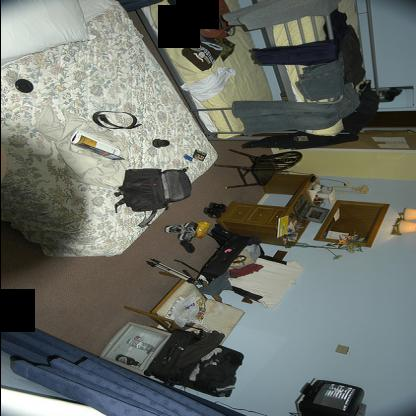backpack: (112, 168, 194, 232)
handbag: (114, 168, 190, 228), (183, 0, 237, 41)
suitcase: (143, 328, 243, 398)
